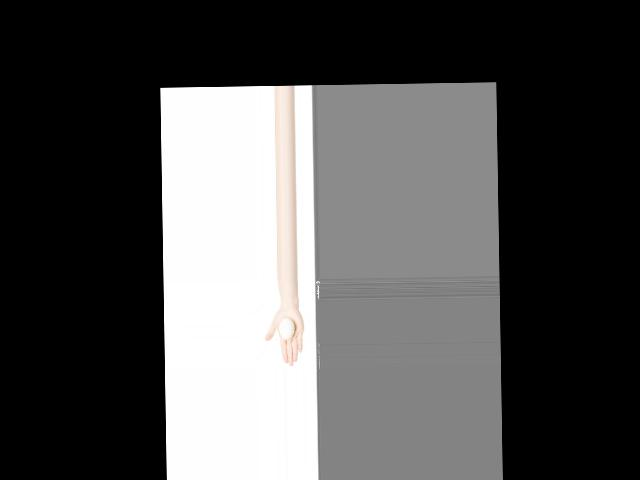egg: (279, 318, 294, 339)
